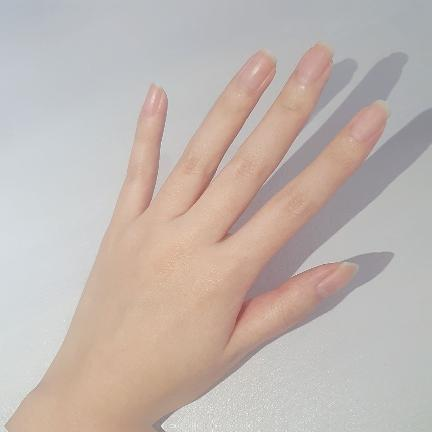Nail: (350, 96, 391, 142), (315, 263, 362, 300), (298, 41, 336, 86), (239, 50, 277, 92), (144, 83, 165, 116)
